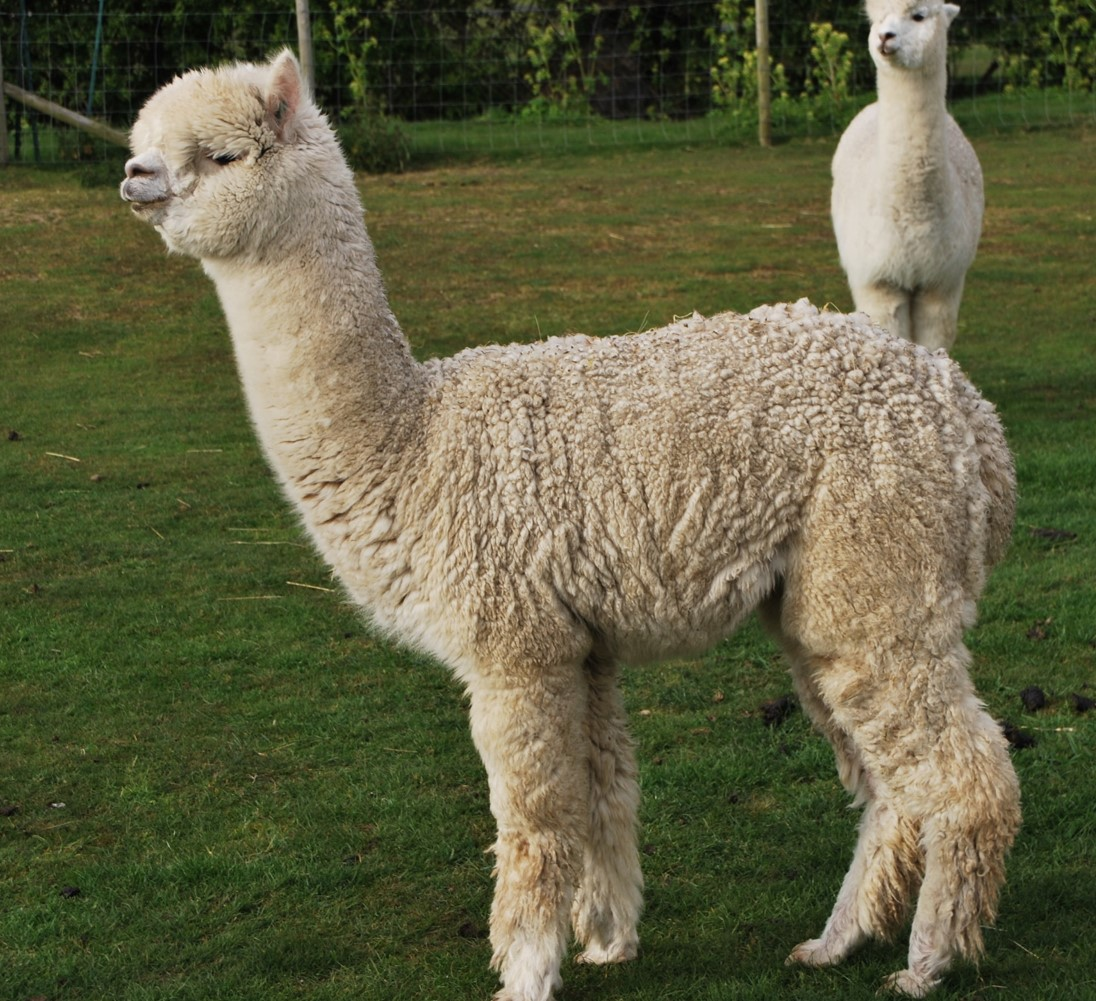alpaca: (119, 47, 1027, 1001), (828, 1, 990, 360)
